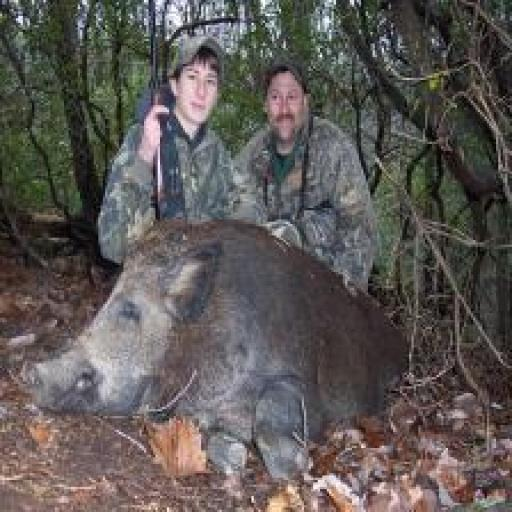Pig: (27, 219, 408, 478)
